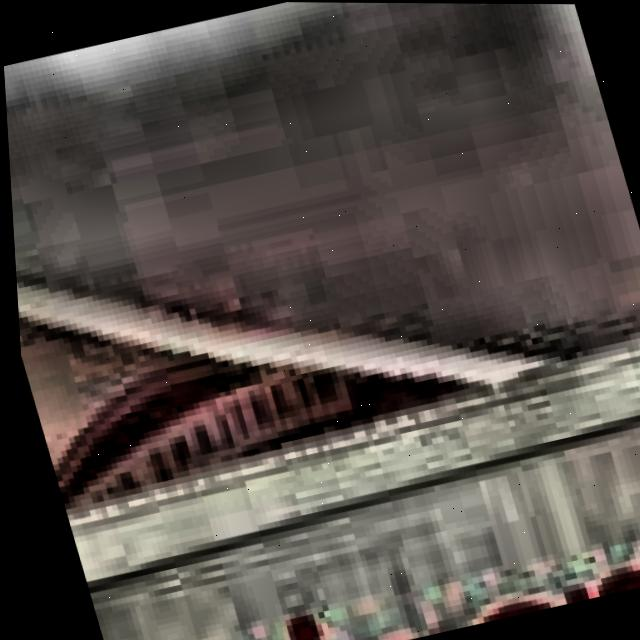paper: (29, 281, 640, 640)
